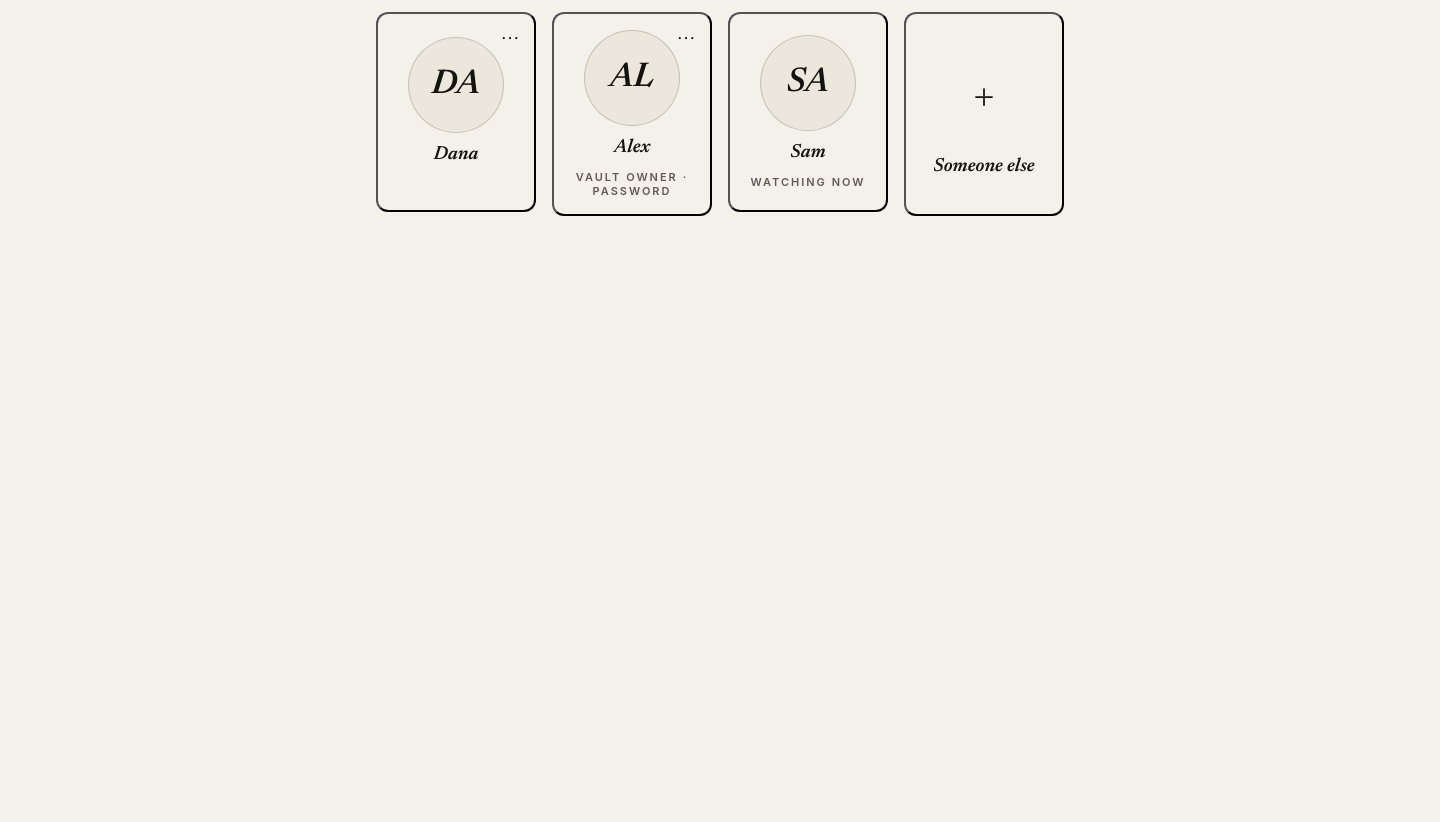
Test case: WhoIsWatching › refreshes and toasts when a member expired meanwhile; says when rate limited
The image size is (1440, 822).
Click the button with aria-label "Continue as Dana": [456, 112] box [376, 12, 536, 212]
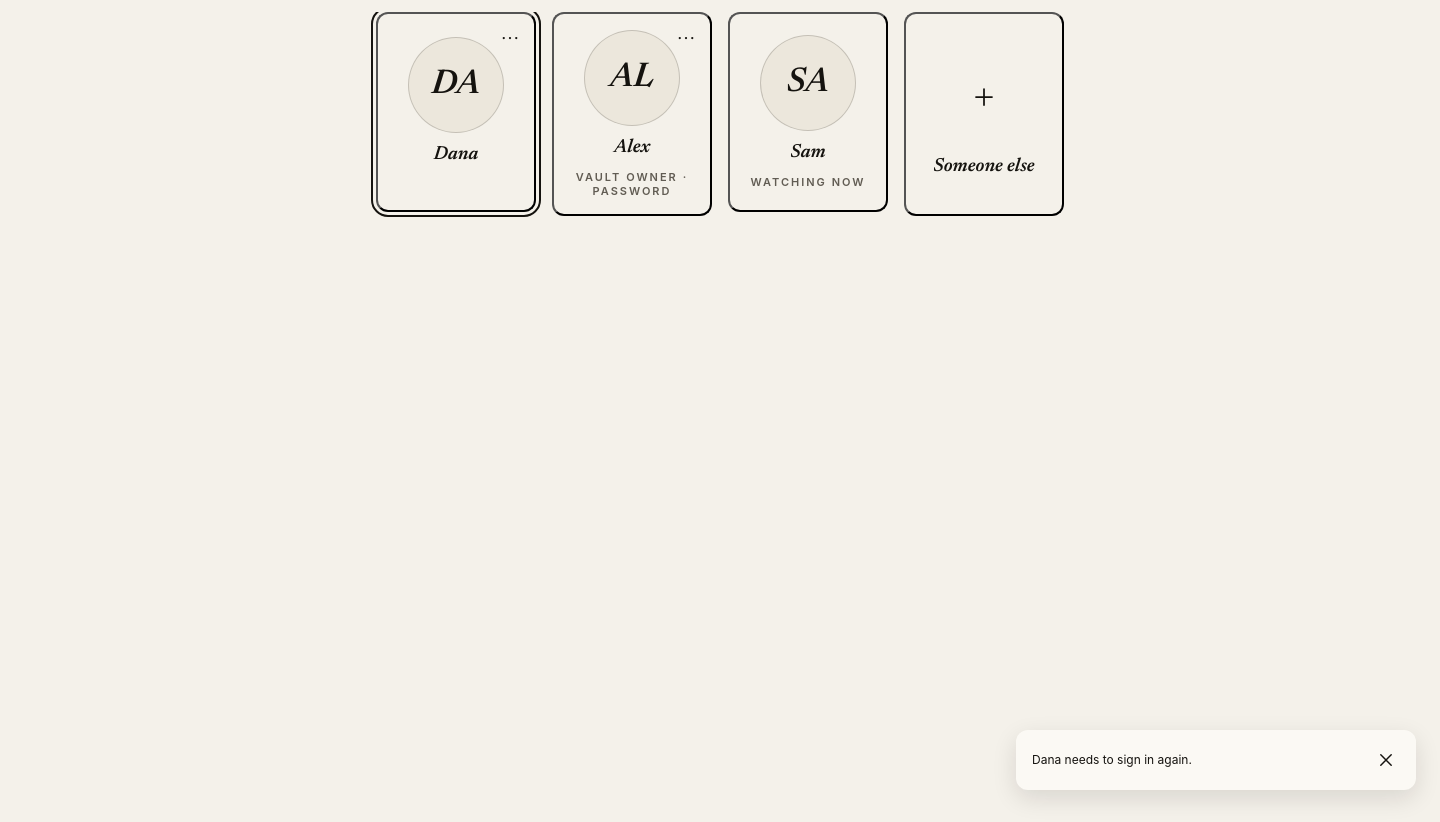
Expected: the text "Dana needs to sign in again." is shown, [1032, 752, 1192, 767]
Click the button with aria-label "Continue as Dana": [456, 112] box [376, 12, 536, 212]
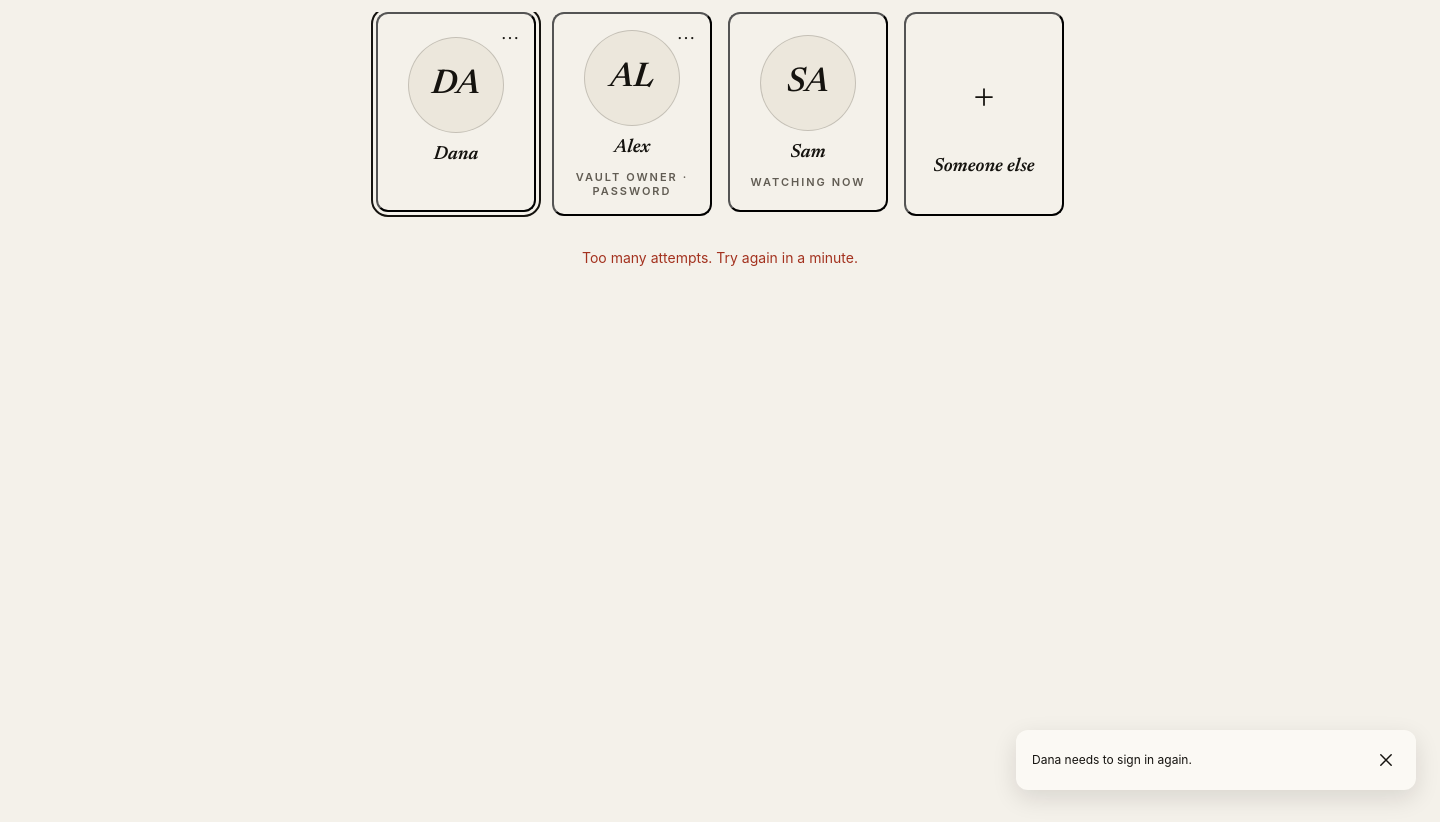
Expected: the text "Too many attempts. Try again in a minute." is shown, [582, 248, 858, 269]
